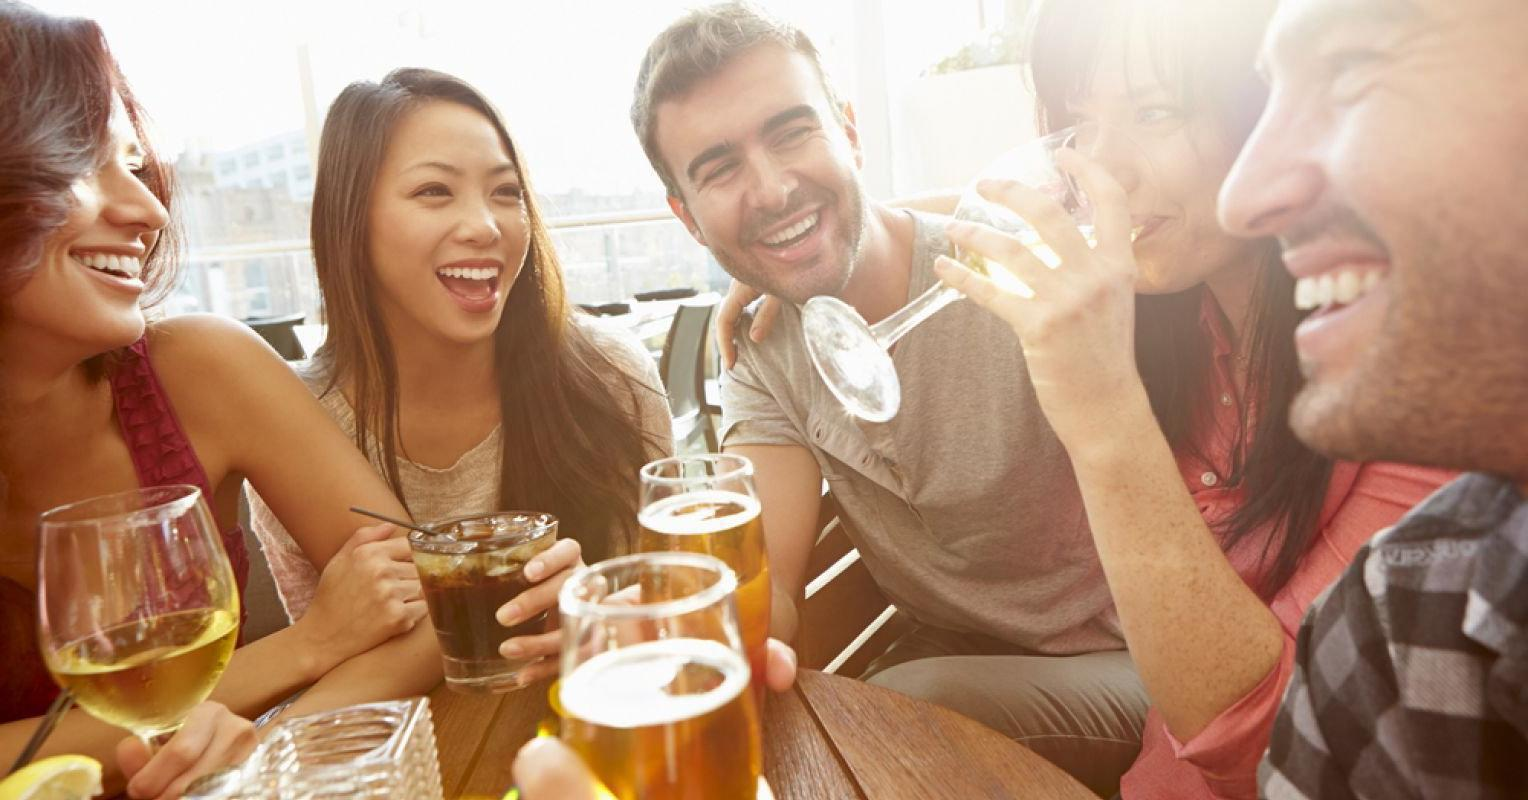Drunk: (666, 65, 858, 294), (384, 104, 531, 337)
